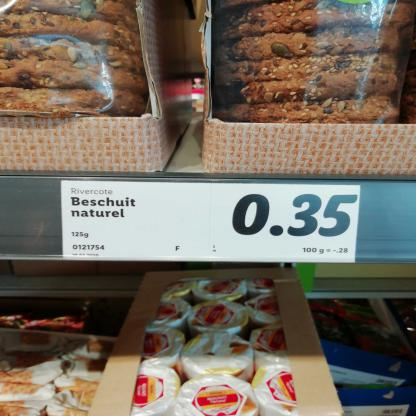prtg: (62, 182, 361, 264)
